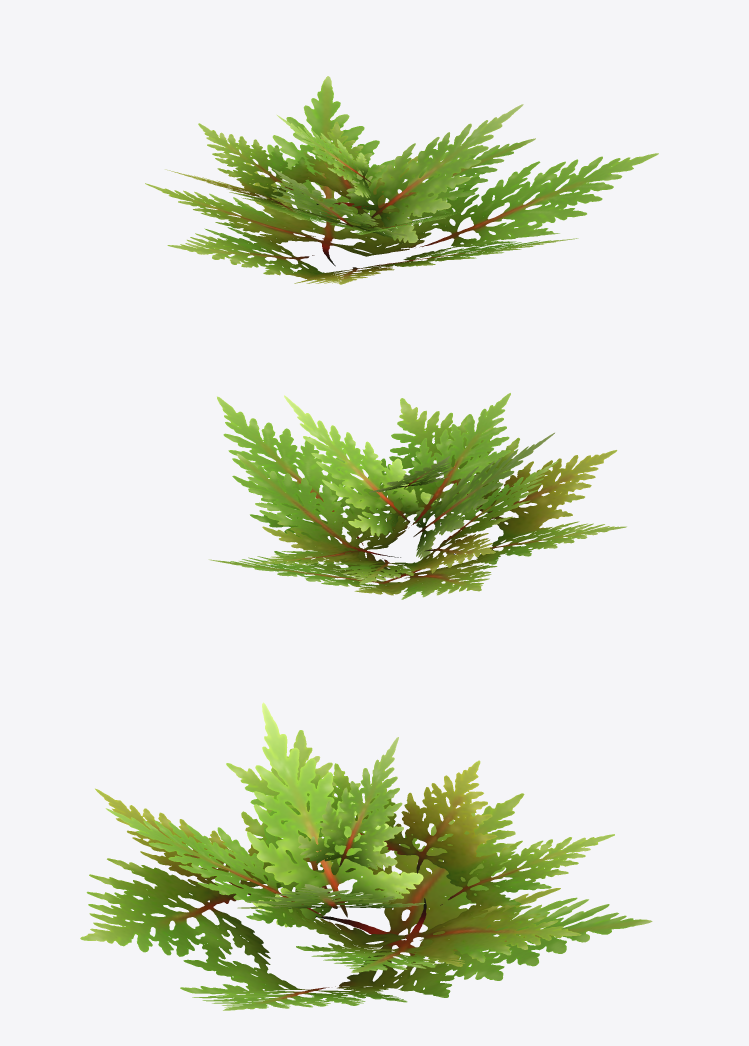
The model's file is Fern_small.fbx.
The picture shows the model from 3 angles, top to bottom: view 1: azimuth 30°, elevation 25°; view 2: azimuth 150°, elevation 25°; view 3: azimuth 270°, elevation 25°; orthographic projection. The views are drawn at different scales.
Parts seen in each view (by area): view 1: Fernsmall; view 2: Fernsmall; view 3: Fernsmall.
Boxes of the visible parts, <box> form: Fernsmall: <box>145,76,658,284</box>; Fernsmall: <box>208,393,626,599</box>; Fernsmall: <box>80,702,652,1010</box>.
Bounding box in the file's own units: 252 × 73.33 × 236.
